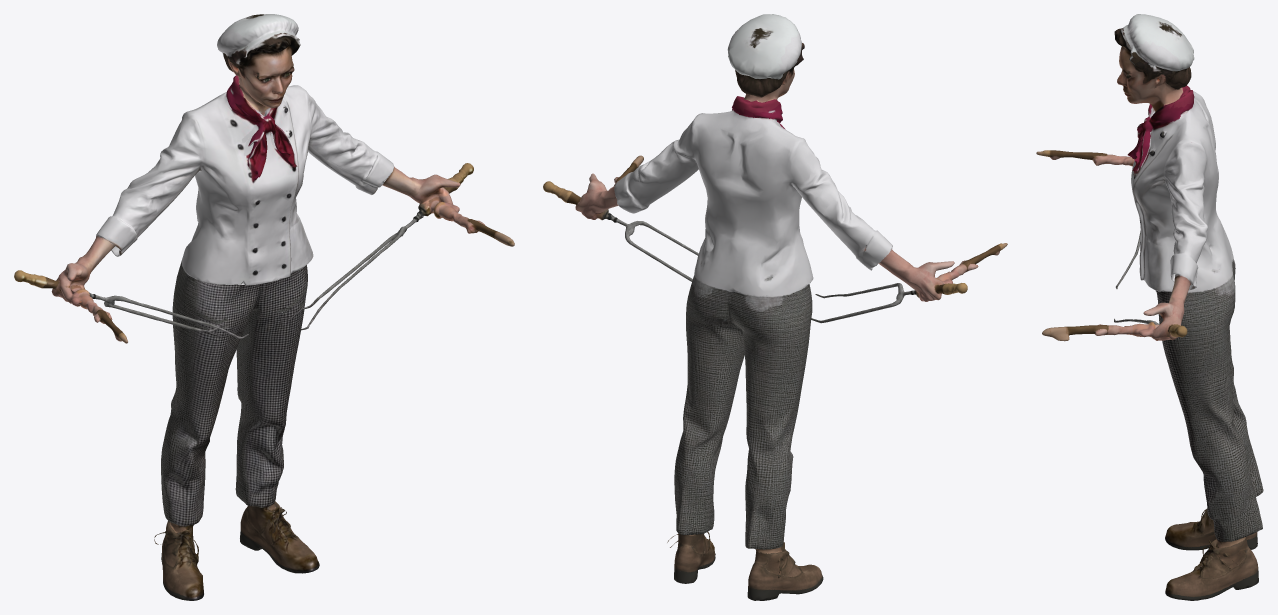
Rendered from madeline-callow_body.glb.
3 views of the same model, side by side, from view 1: azimuth 30°, elevation 25°; view 2: azimuth 150°, elevation 25°; view 3: azimuth 270°, elevation 25° (orthographic). The views are drawn at different scales.
Parts seen in each view (by area): view 1: madeline-callow; view 2: madeline-callow; view 3: madeline-callow.
Boxes of the visible parts, box(x1,y1,x2,y2) form: madeline-callow: box(14, 14, 514, 600); madeline-callow: box(543, 14, 1007, 600); madeline-callow: box(1036, 14, 1263, 600).
Bounding box in the file's own units: 1.4 × 1.7 × 0.6344.
2 materials, 2 textured.
